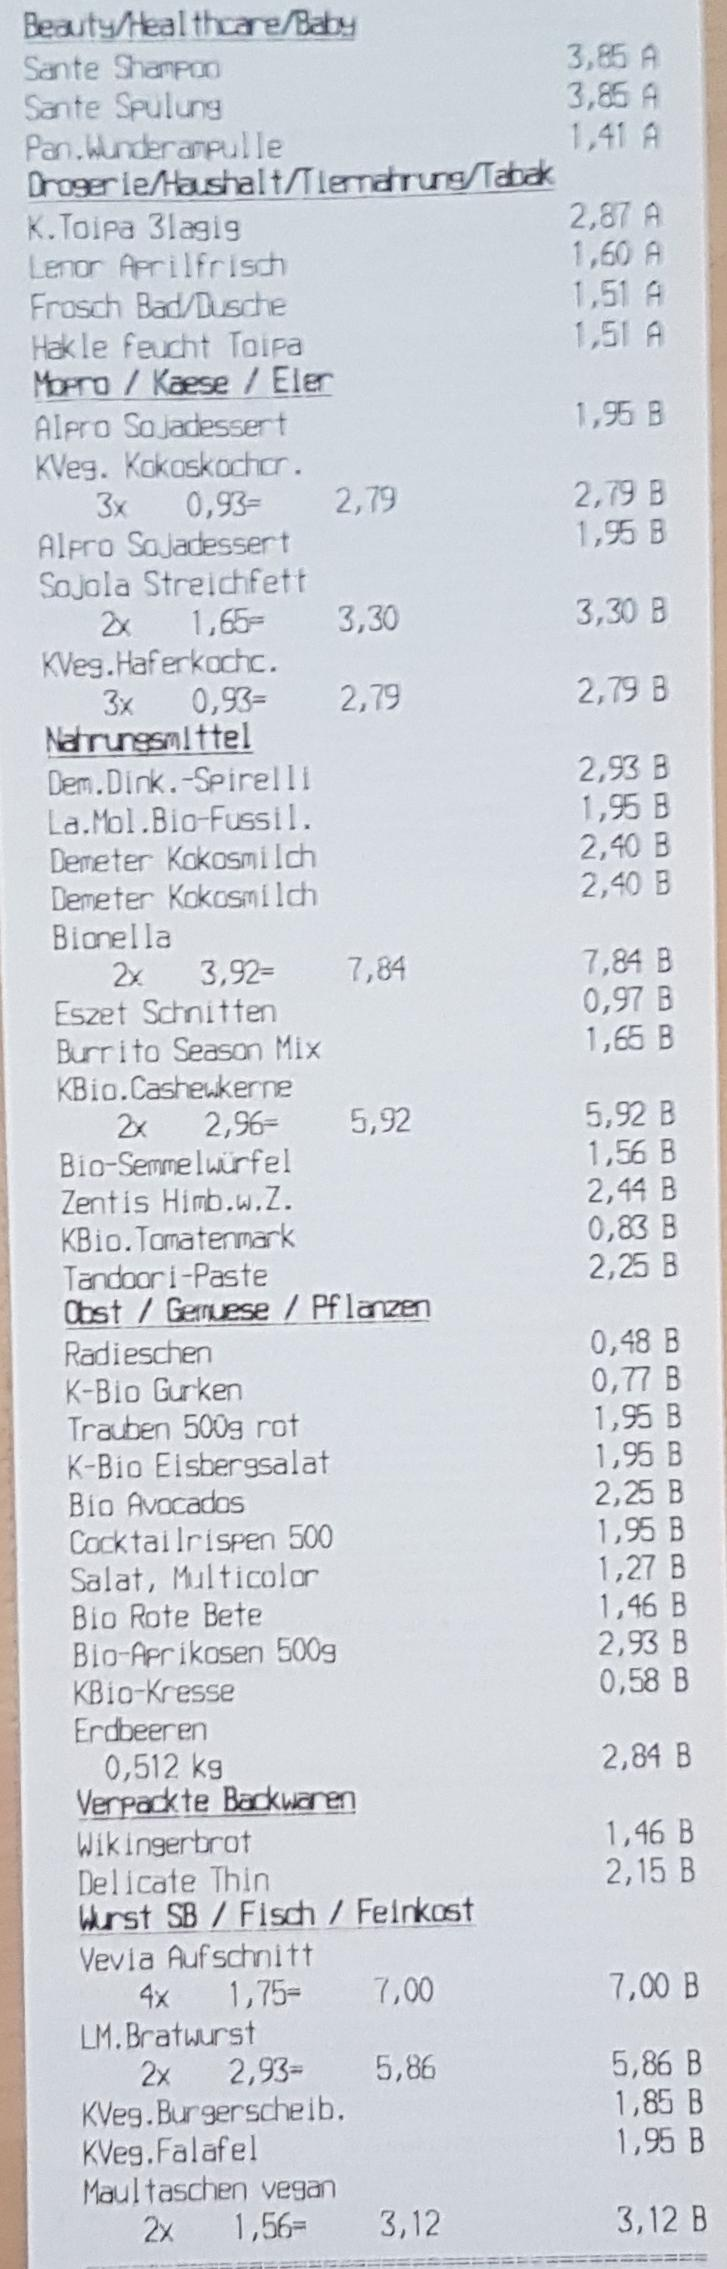Product: (72, 1938, 327, 1980), (16, 127, 290, 166), (26, 328, 308, 365), (28, 247, 293, 285), (30, 407, 295, 444), (43, 802, 316, 838), (75, 2092, 348, 2129), (67, 1446, 337, 1482), (55, 1069, 301, 1108), (28, 288, 290, 324), (54, 1035, 332, 1068), (70, 1524, 348, 1557), (39, 564, 314, 598), (72, 1637, 346, 1670), (42, 881, 326, 913), (54, 993, 290, 1030), (29, 449, 311, 479), (61, 1223, 307, 1258), (83, 2173, 350, 2205), (56, 1145, 301, 1179), (26, 210, 243, 249), (77, 1859, 277, 1901), (39, 645, 285, 679), (14, 88, 230, 126), (43, 844, 323, 873), (59, 1187, 303, 1218), (70, 1564, 324, 1595), (14, 48, 227, 84), (71, 2017, 265, 2053), (33, 531, 303, 557), (62, 1260, 274, 1292), (46, 768, 314, 793), (72, 1826, 262, 1861), (72, 2134, 269, 2168), (67, 1674, 248, 1710), (67, 1488, 255, 1522), (70, 1411, 304, 1438), (71, 1598, 274, 1627), (61, 1376, 245, 1407), (67, 1713, 211, 1750), (62, 1336, 216, 1369), (46, 925, 177, 954)
